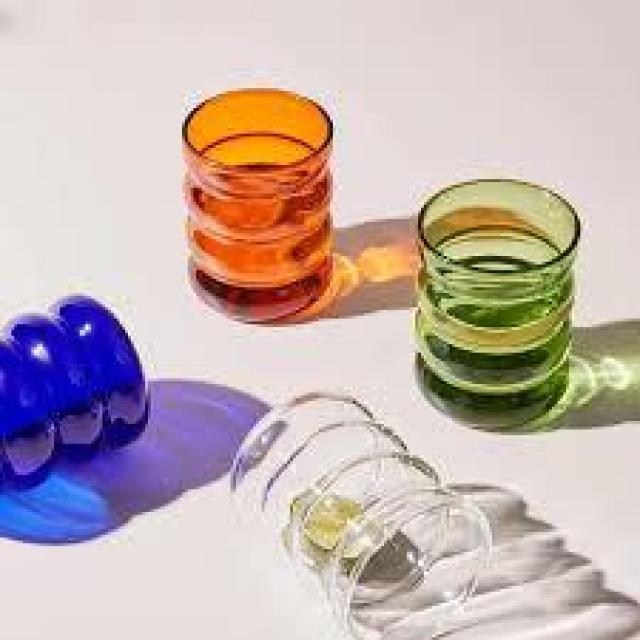non-organic waste: (219, 384, 501, 640), (406, 169, 584, 431), (172, 81, 343, 329)
